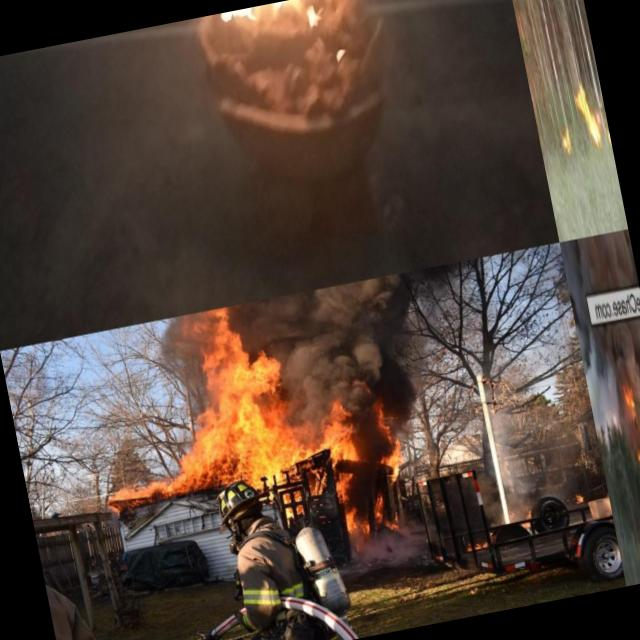fire: (180, 306, 305, 484), (173, 0, 383, 70), (310, 400, 364, 490), (369, 406, 421, 486), (623, 377, 640, 549), (110, 472, 180, 510), (169, 438, 213, 494), (574, 84, 604, 148), (340, 499, 364, 534), (463, 532, 491, 554), (558, 120, 574, 154)
smoke: (251, 266, 462, 436), (576, 324, 634, 447), (344, 514, 444, 572), (612, 317, 640, 384)
